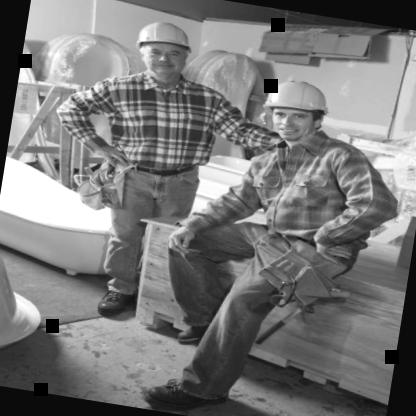helmet: (252, 72, 338, 146), (123, 11, 202, 86)
